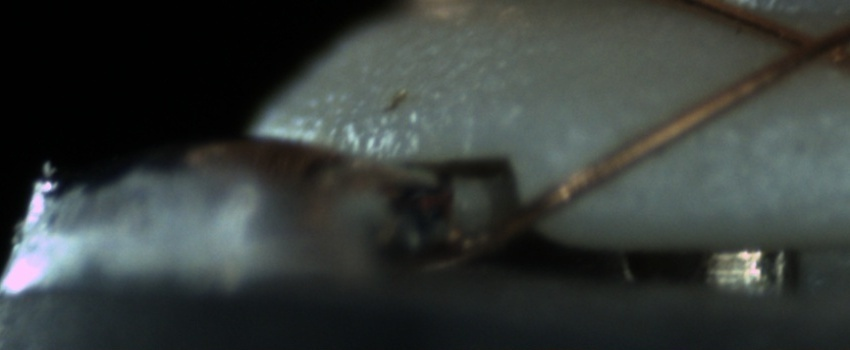CL: (768, 14, 848, 75)
